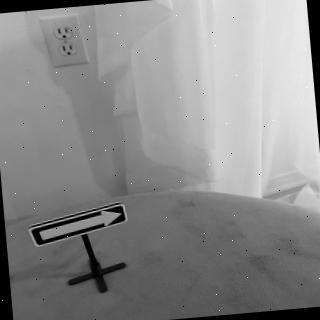sign_oneway_right: (26, 202, 132, 251)
